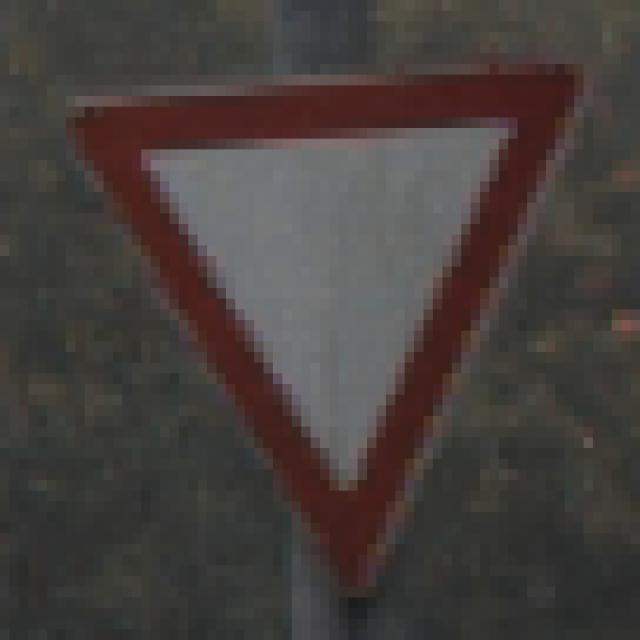Give Way: (58, 54, 575, 588)
